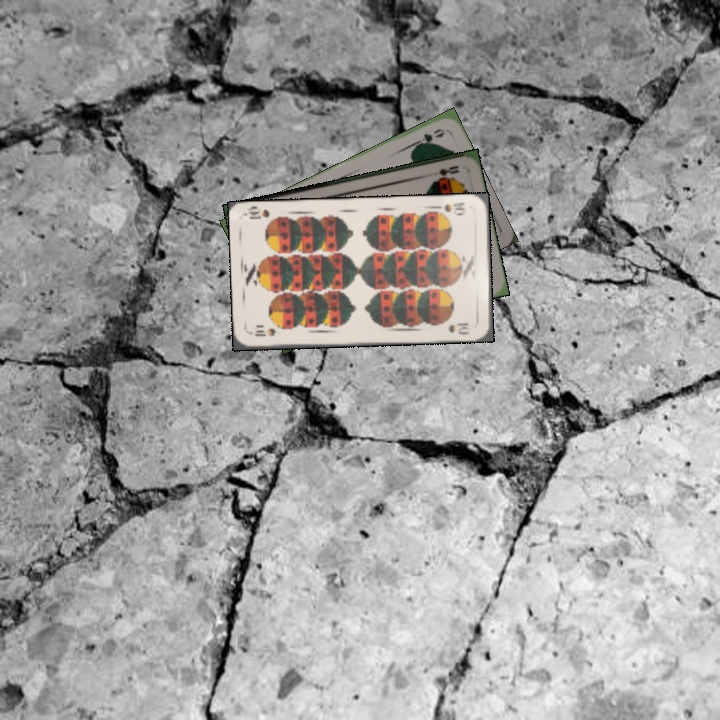GO: (408, 124, 448, 151)
S10: (432, 198, 467, 215), (251, 324, 279, 339)
SO: (434, 161, 462, 181)
